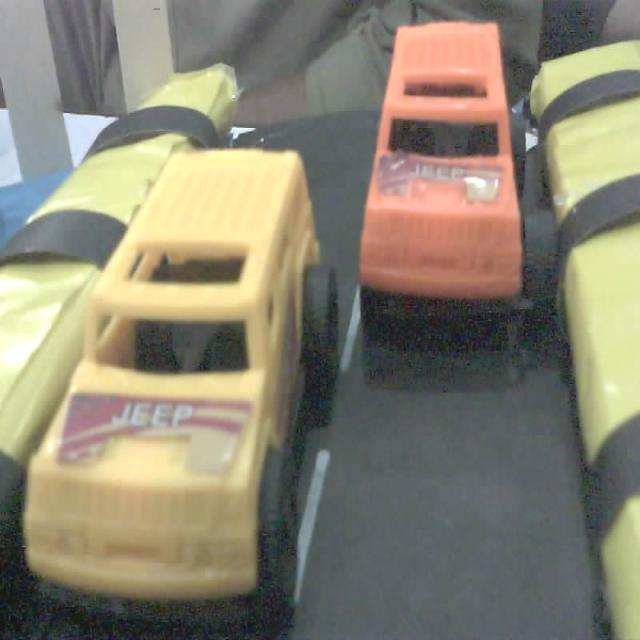TwoCar: (22, 129, 369, 611), (342, 24, 569, 339)
